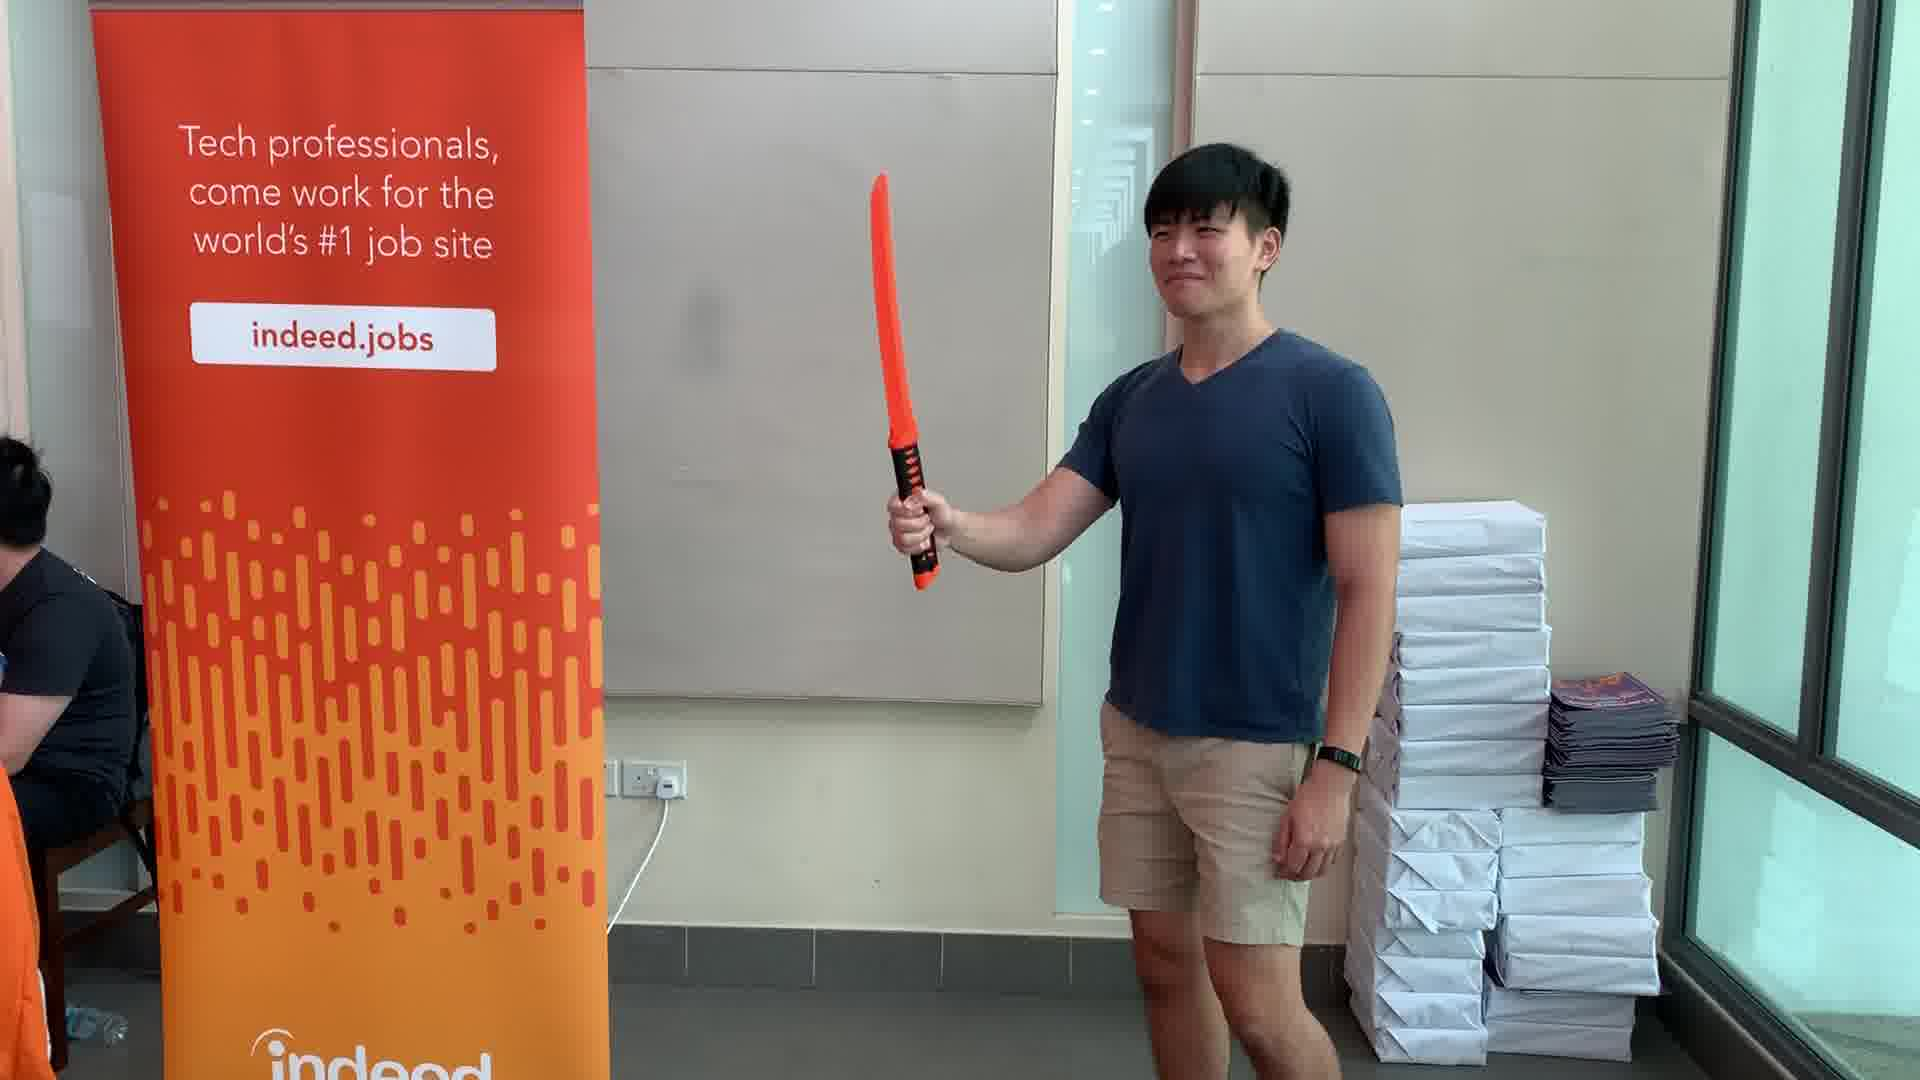knife: (861, 164, 945, 597)
